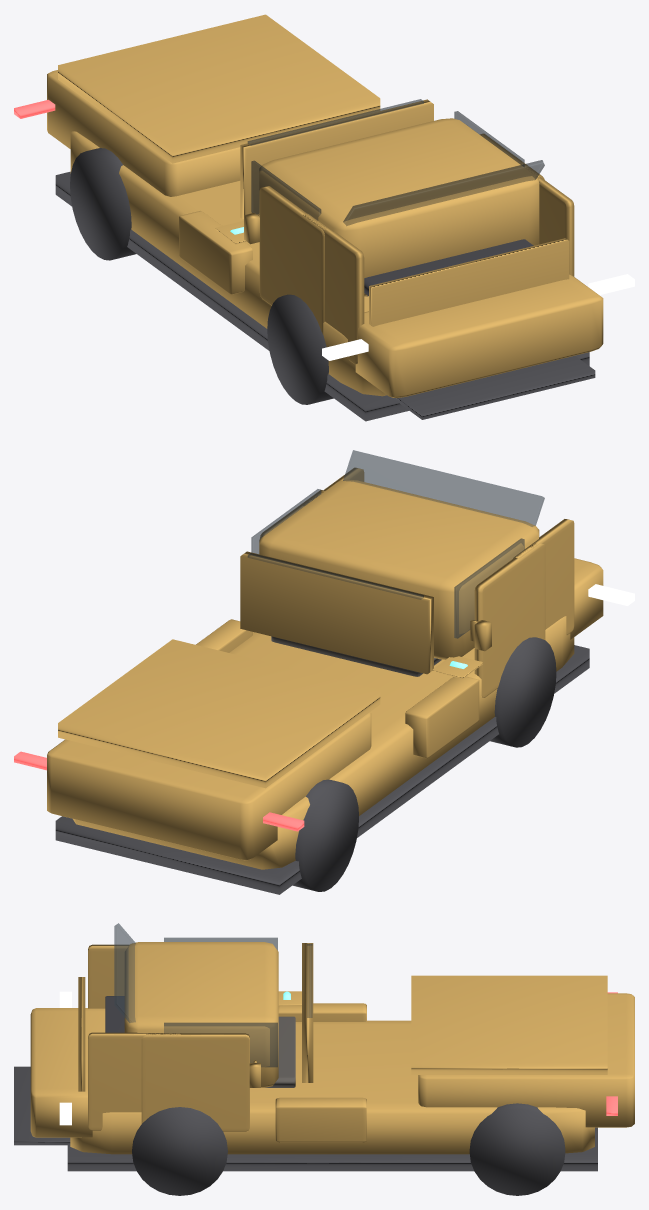
The model's file is pickup.glb.
The picture shows the model from 3 angles, top to bottom: view 1: azimuth 30°, elevation 25°; view 2: azimuth 150°, elevation 25°; view 3: azimuth 270°, elevation 25°; orthographic projection. The views are drawn at different scales.
Parts seen in each view (by area): view 1: cab, bed_rim, nose, base, frunk, bed, door_fl, trunk, wheel_rl, cladding, wheel_fl, skid (+10 smaller); view 2: bed_rim, cab, bed, trunk, base, cladding, door_fl, windshield, wheel_rl, wheel_fl, fender_l, door_rl (+8 smaller); view 3: base, bed_rim, cab, bed, door_fr, nose, wheel_rr, wheel_fr, cladding, door_rr, fender_r, window_glass.001 (+10 smaller).
Part boxes in pixels (x1=…): cab: x1=259, y1=118, x2=539, y2=296; bed_rim: x1=58, y1=14, x2=380, y2=163; nose: x1=355, y1=274, x2=603, y2=398; base: x1=70, y1=131, x2=386, y2=396; frunk: x1=369, y1=238, x2=569, y2=326; bed: x1=47, y1=70, x2=240, y2=196; door_fl: x1=259, y1=186, x2=326, y2=334; trunk: x1=240, y1=99, x2=433, y2=219; wheel_rl: x1=70, y1=148, x2=135, y2=260; cladding: x1=55, y1=171, x2=589, y2=421; wheel_fl: x1=267, y1=294, x2=333, y2=404; skid: x1=391, y1=355, x2=595, y2=419; bed_rim: x1=58, y1=639, x2=380, y2=788; cab: x1=259, y1=479, x2=539, y2=659; bed: x1=47, y1=712, x2=371, y2=860; trunk: x1=240, y1=551, x2=433, y2=674; base: x1=73, y1=616, x2=574, y2=869; cladding: x1=55, y1=645, x2=589, y2=894; door_fl: x1=474, y1=543, x2=545, y2=697; windshield: x1=343, y1=450, x2=544, y2=526; wheel_rl: x1=292, y1=779, x2=358, y2=891; wheel_fl: x1=490, y1=637, x2=556, y2=747; fender_l: x1=405, y1=676, x2=479, y2=758; door_rl: x1=513, y1=519, x2=574, y2=634; base: x1=70, y1=1020, x2=594, y2=1154; bed_rim: x1=411, y1=975, x2=607, y2=1074; cab: x1=124, y1=942, x2=278, y2=1087; bed: x1=418, y1=993, x2=634, y2=1127; door_fr: x1=141, y1=1033, x2=249, y2=1131; nose: x1=30, y1=1008, x2=105, y2=1137; wheel_rr: x1=469, y1=1103, x2=565, y2=1195; wheel_fr: x1=132, y1=1107, x2=227, y2=1195; cladding: x1=67, y1=1127, x2=597, y2=1171; door_rr: x1=88, y1=1032, x2=180, y2=1130; fender_r: x1=275, y1=1097, x2=366, y2=1142; window_glass.001: x1=164, y1=1022, x2=277, y2=1067.
Size of the model in its own units: 2.65 by 1.79 by 5.44.
